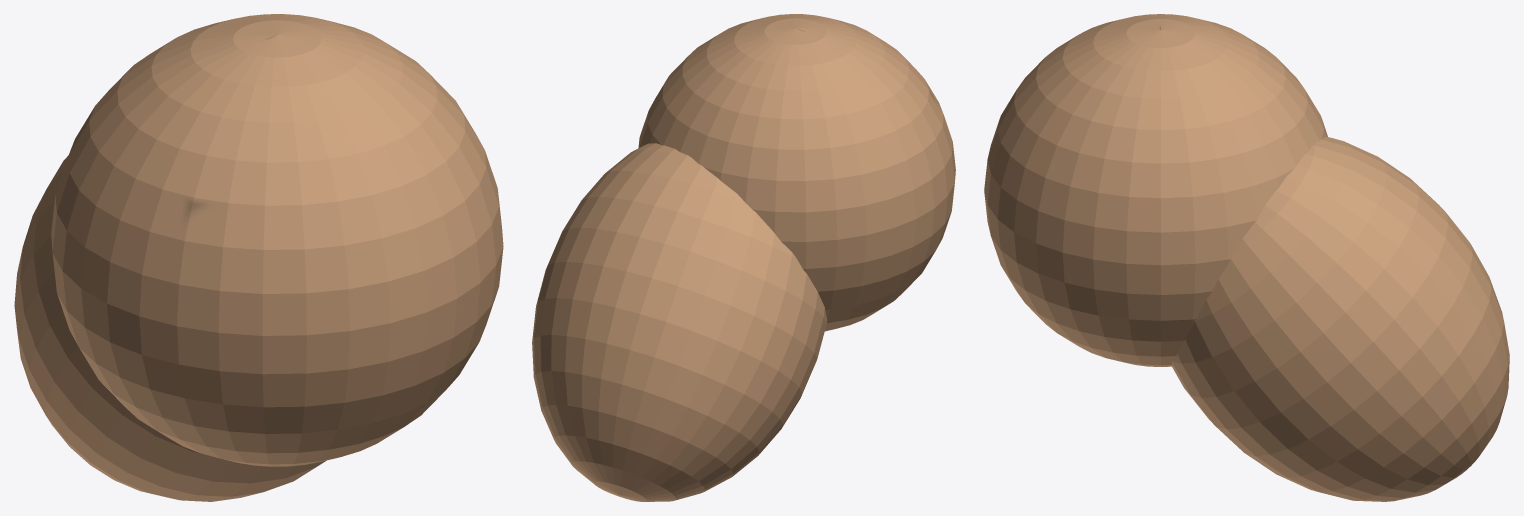
File: BicepDer_Bulls.obj
The picture shows the model from 3 angles, left to right: view 1: azimuth 30°, elevation 25°; view 2: azimuth 150°, elevation 25°; view 3: azimuth 270°, elevation 25°; orthographic projection. The views are drawn at different scales.
Parts seen in each view (by area): view 1: BicepDer_Bulls; view 2: BicepDer_Bulls; view 3: BicepDer_Bulls.
Boxes of the visible parts, x1=… form: BicepDer_Bulls: x1=14, y1=14, x2=503, y2=501; BicepDer_Bulls: x1=532, y1=14, x2=955, y2=501; BicepDer_Bulls: x1=984, y1=14, x2=1509, y2=501.
Size of the model in its own units: 1.27 by 1.6 by 1.74.
1 material, 1 textured.
